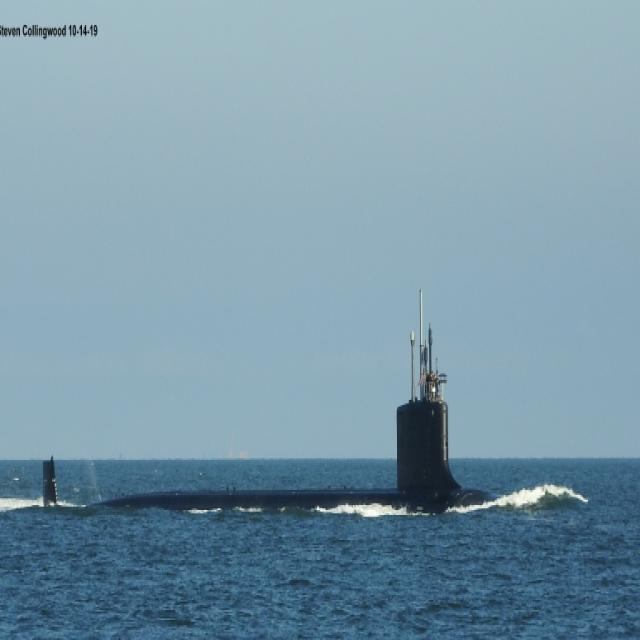submarine: (44, 286, 495, 514)
